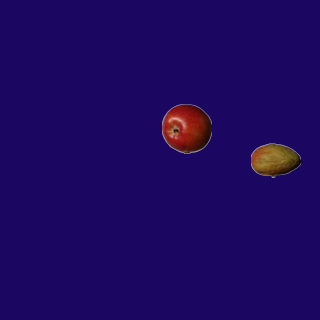Apple Braeburn: (161, 103, 211, 153)
Papaya: (250, 135, 300, 185)
